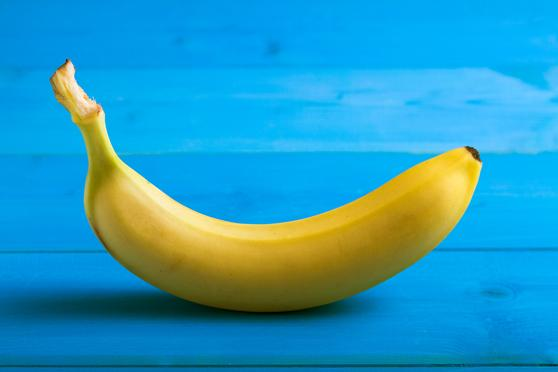banana: (47, 61, 486, 319)
